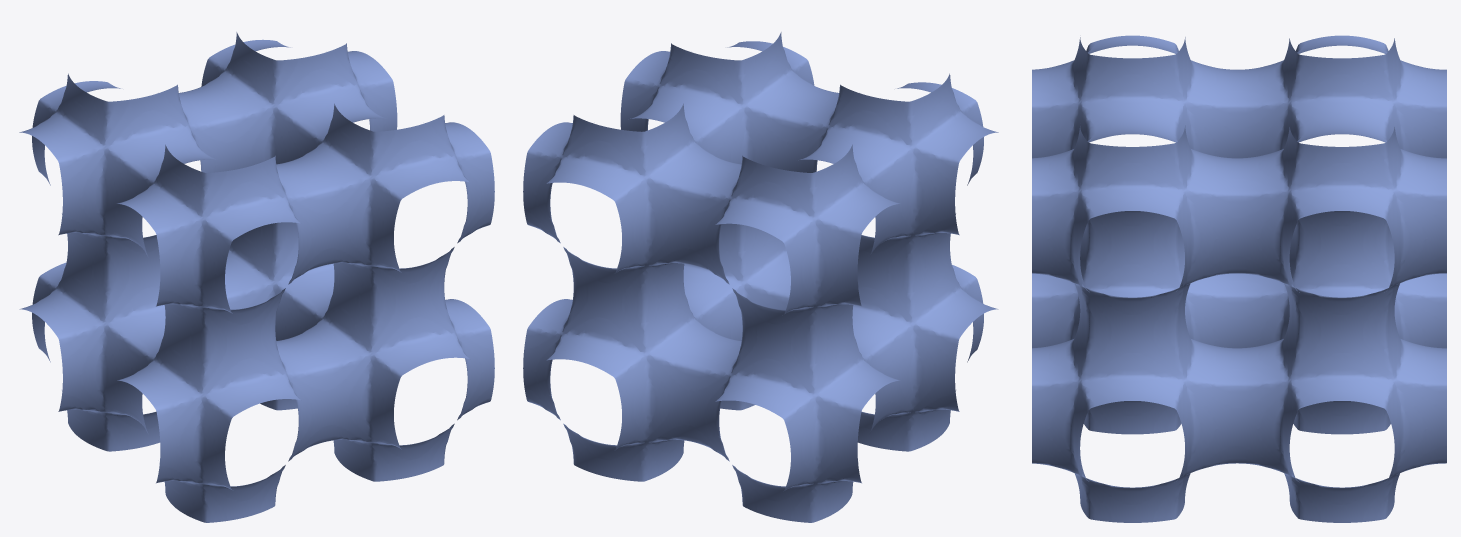
The picture shows the model from 3 angles, left to right: view 1: azimuth 30°, elevation 25°; view 2: azimuth 150°, elevation 25°; view 3: azimuth 270°, elevation 25°; orthographic projection. The views are drawn at different scales.
Visible parts, largest first — view 1: world; view 2: world; view 3: world.
Boxes of the visible parts, x1,y1,x2,y2 form: world: (19, 32, 494, 522); world: (523, 32, 998, 522); world: (1032, 35, 1446, 522).
Bounding box in the file's own units: 99 × 99 × 99.
